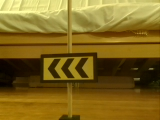left: (41, 55, 98, 81)
